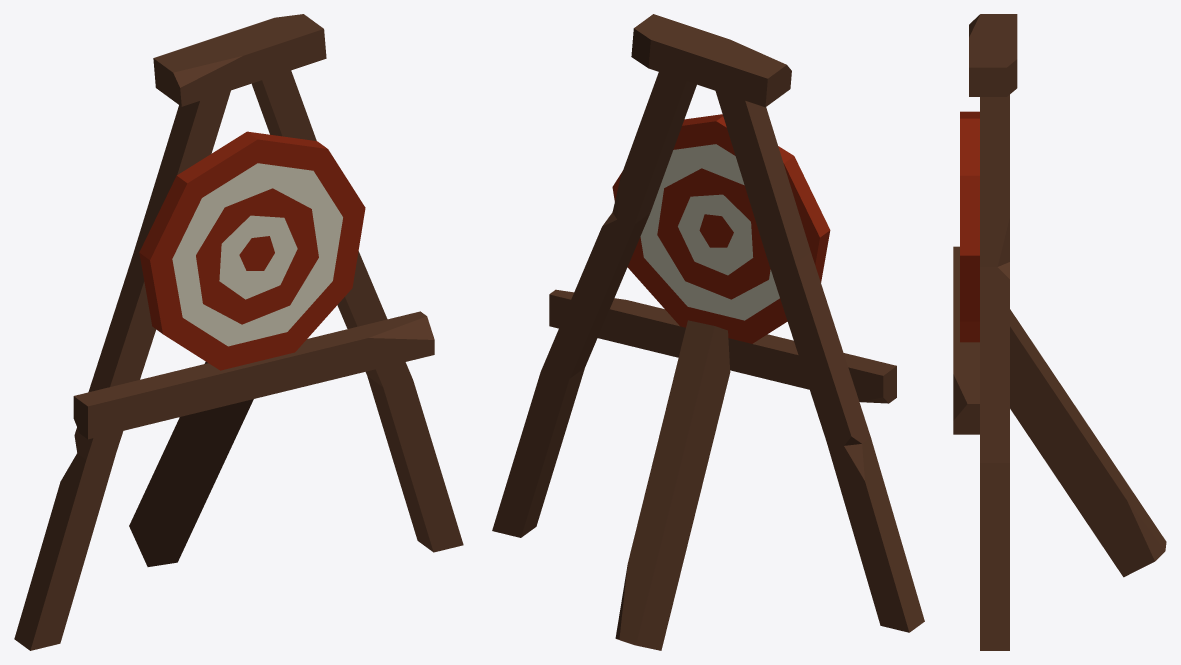
Rendered from LPWarPack_RoundTarget.fbx.
3 views of the same model, side by side, from view 1: azimuth 30°, elevation 25°; view 2: azimuth 150°, elevation 25°; view 3: azimuth 270°, elevation 25° (orthographic). The views are drawn at different scales.
Parts seen in each view (by area): view 1: RoundTarget; view 2: RoundTarget; view 3: RoundTarget.
Part boxes in pixels (x1,y1,x2,y2): RoundTarget: (14,14,463,650); RoundTarget: (492,14,924,650); RoundTarget: (953,14,1166,650).
Bounding box in the file's own units: 117 × 150 × 53.7.
